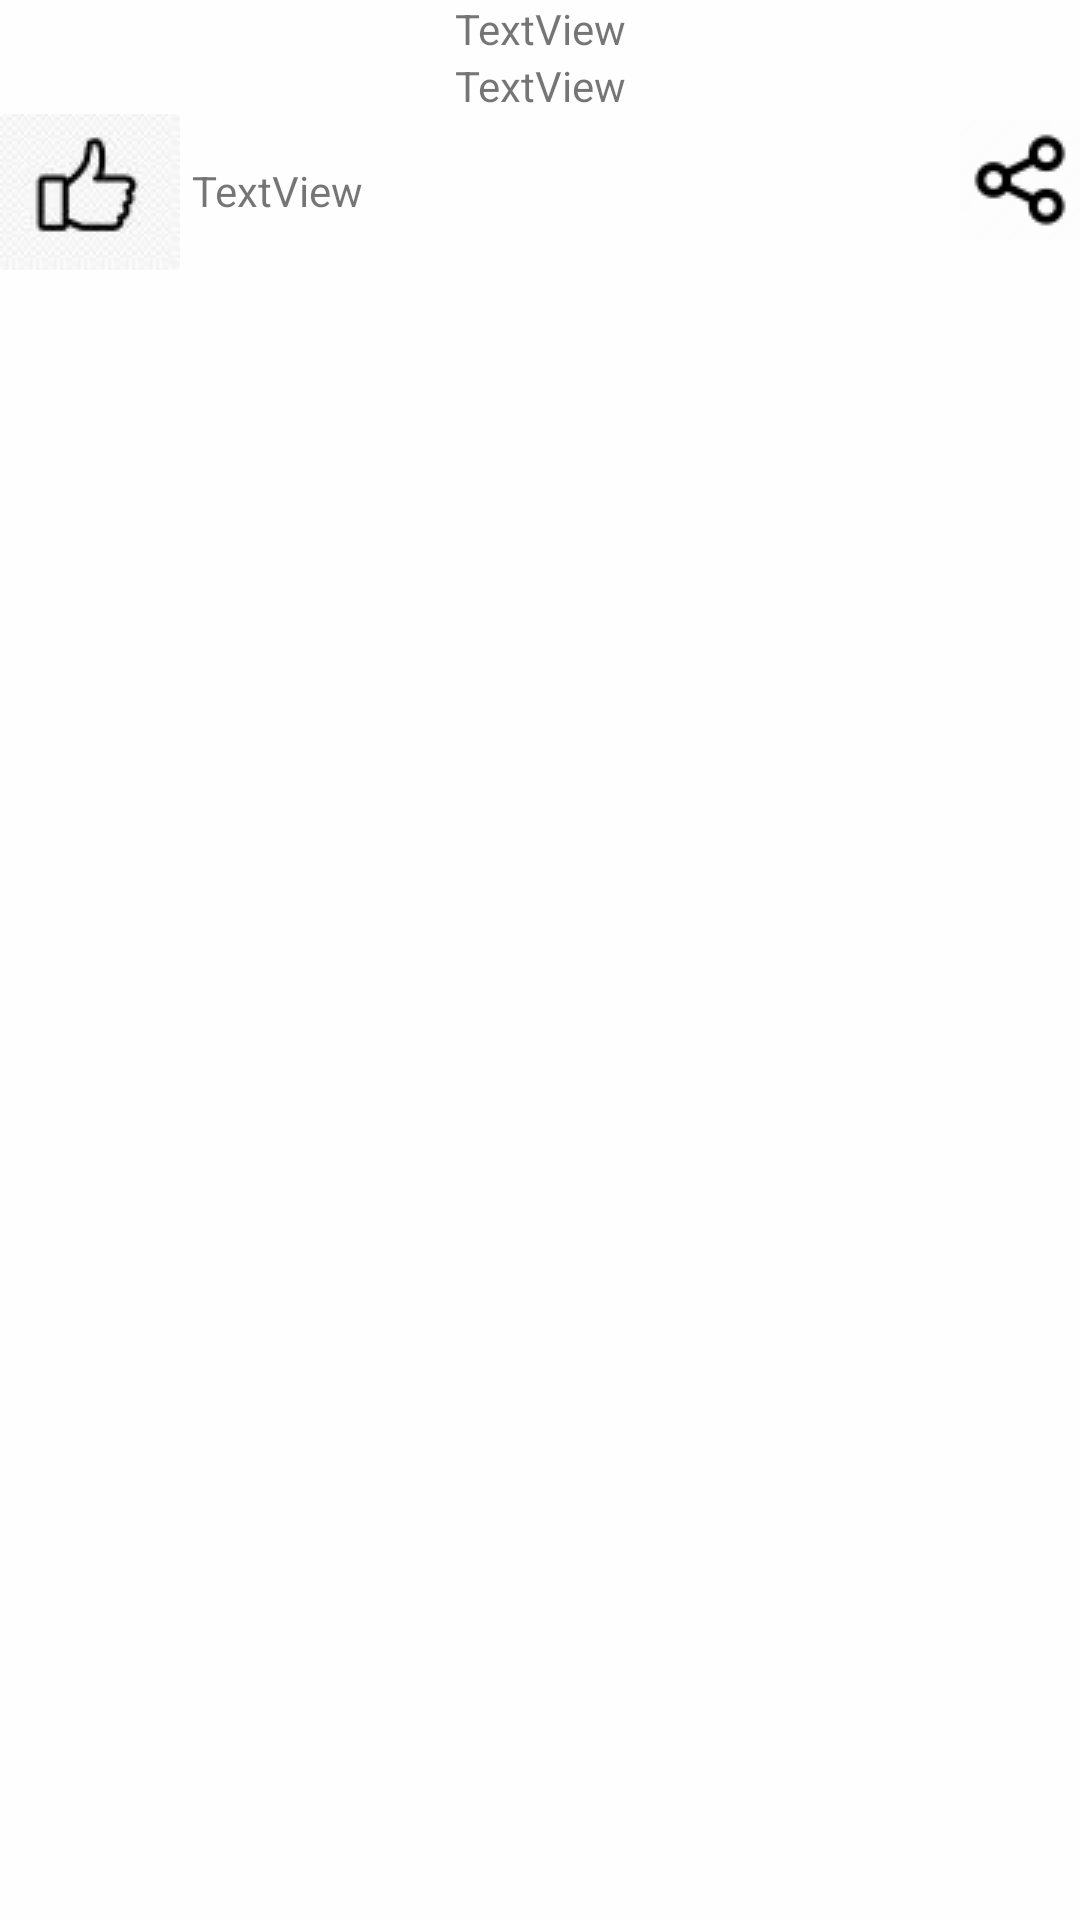

Named icons in this screenshot (1080*1920) and their bounding boxes, (x1, y1, x2, y2):
like: (35, 137, 143, 232)
share: (974, 134, 1066, 226)
